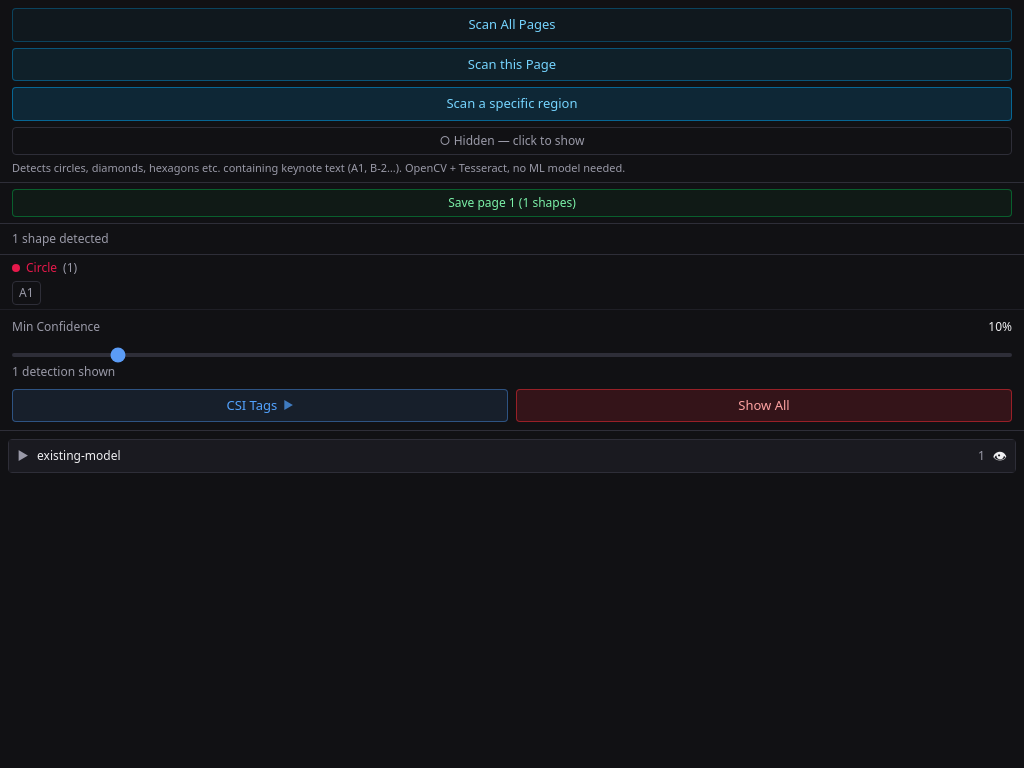
Test case: DetectionPanel shape-save — guard, raw-fetch failure, and append+clear › demo guard keeps pending shapes and performs no annotation write
This screenshot has width=1024, height=768.
Click the button "Save page 1 (1 shapes)". click: (512, 203)
box: [12,189,1012,217]
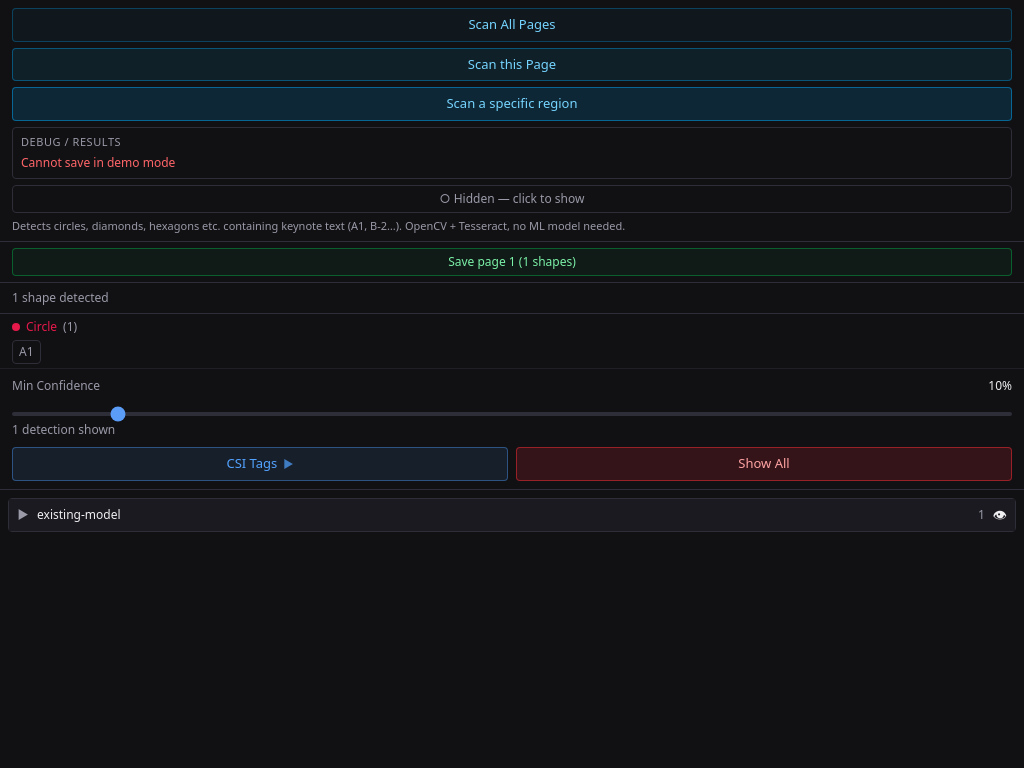
Expected: the button "Save page 1 (1 shapes)" is enabled, [12,248,1012,276]
Expected: the text "Cannot save in demo mode" is shown, [21,154,175,171]
